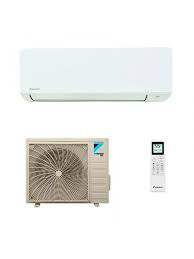ac: (16, 43, 177, 107)
